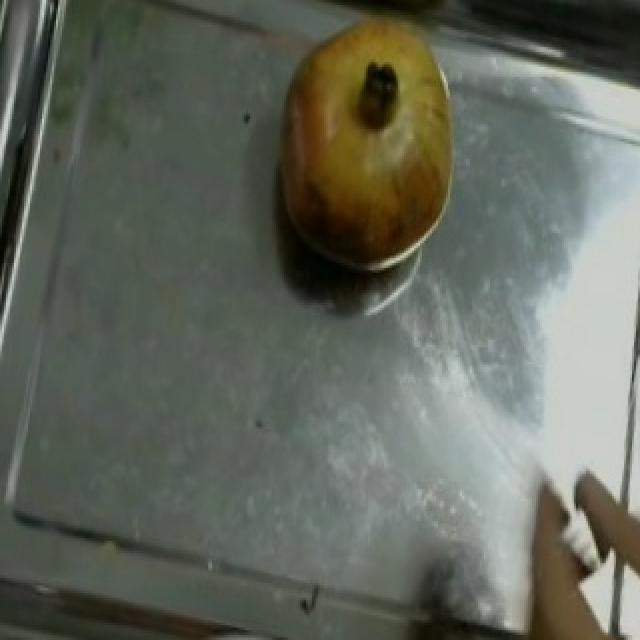fruit: (260, 0, 484, 278)
